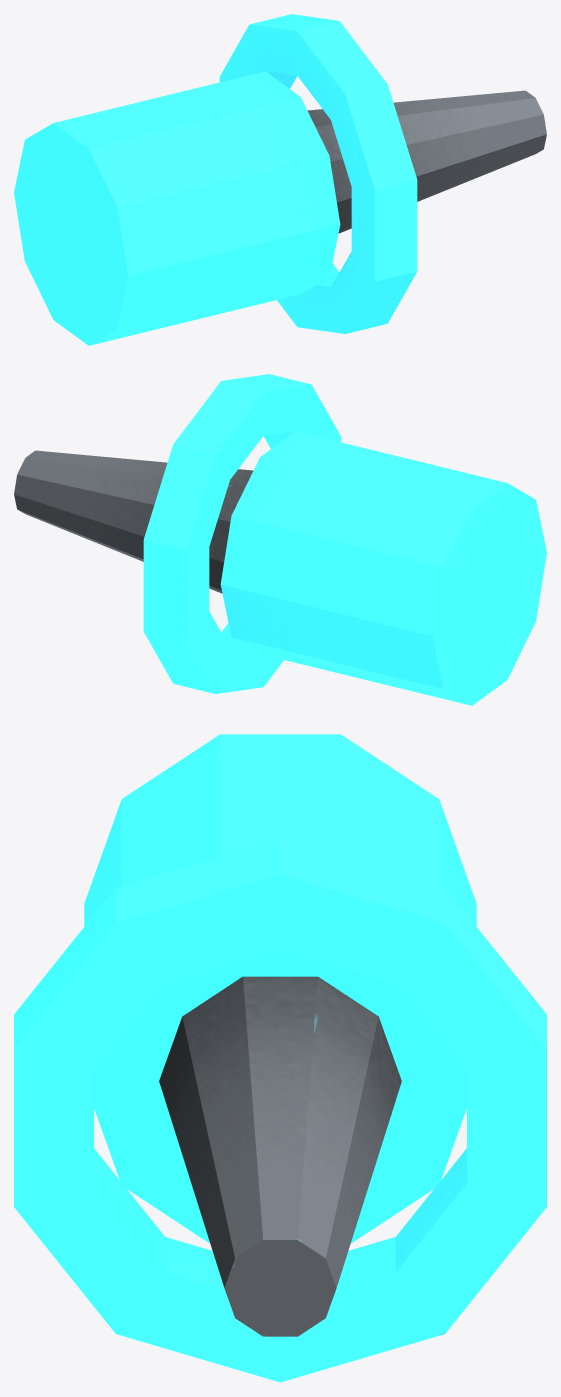
File: opr_prj_kinetic_slug_a.glb
3 renders of one model, top to bottom at view 1: azimuth 30°, elevation 25°; view 2: azimuth 150°, elevation 25°; view 3: azimuth 270°, elevation 25°, orthographic. The views are drawn at different scales.
Parts seen in each view (by area): view 1: mesh_intact; view 2: mesh_intact; view 3: mesh_intact.
Part boxes in pixels (<box>): mesh_intact: <box>14,14,546,345</box>; mesh_intact: <box>14,374,546,705</box>; mesh_intact: <box>14,734,546,1382</box>.
Size of the model in its own units: 0.065 by 0.04 by 0.038.
1 material, 1 textured.
